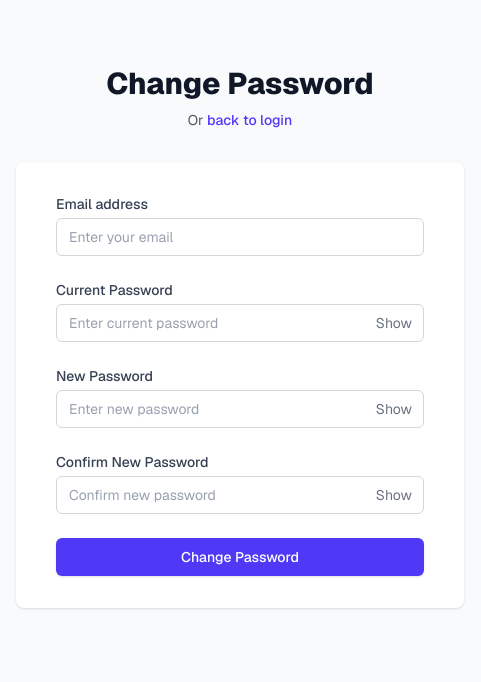
Test case: ChangePasswordPage › should show validation errors for empty fields
Click the button "Change Password" at (240, 557), box [56,538,424,576]
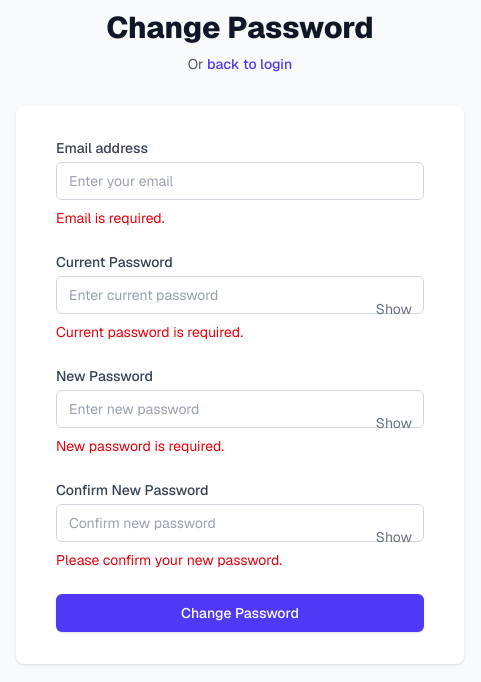
Expected: the text "Email is required." is shown, [56,209,164,227]
Expected: the text "Current password is required." is shown, [56,323,243,341]
Expected: the text "New password is required." is shown, [56,437,224,455]
